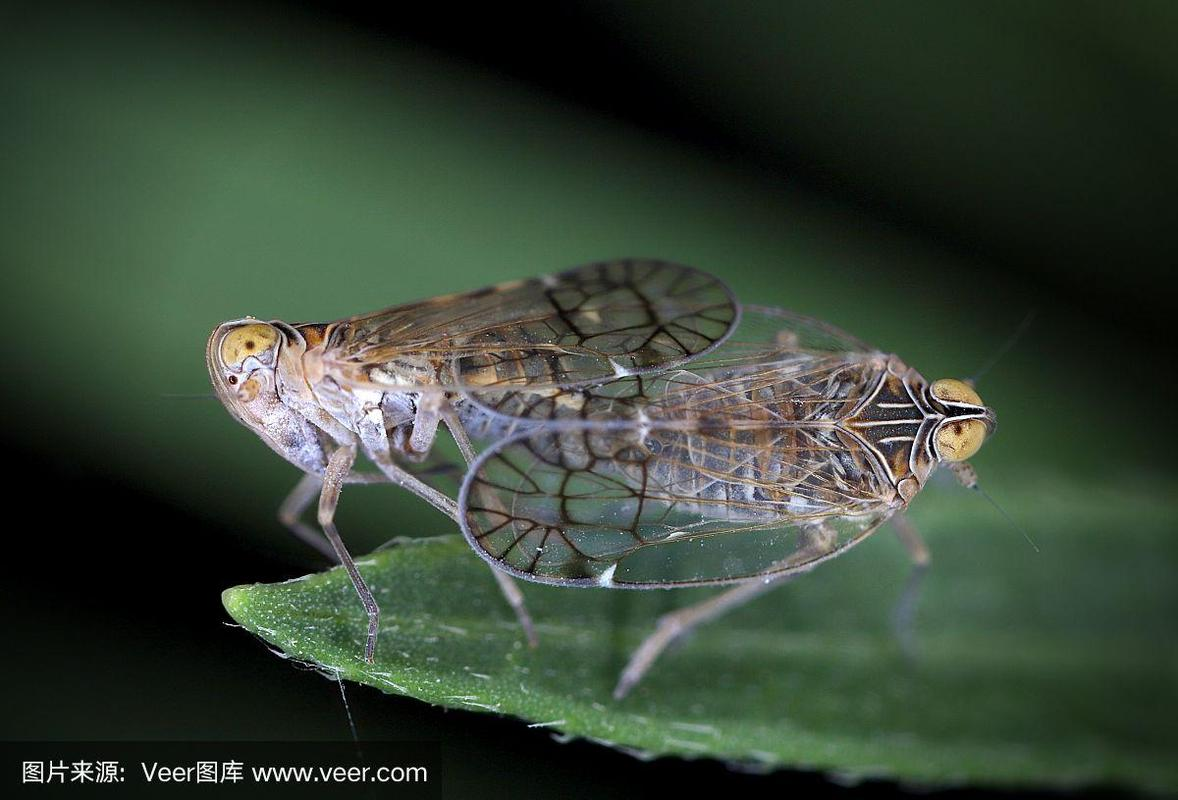Delphacidae: (163, 254, 741, 665), (449, 300, 1041, 698)
